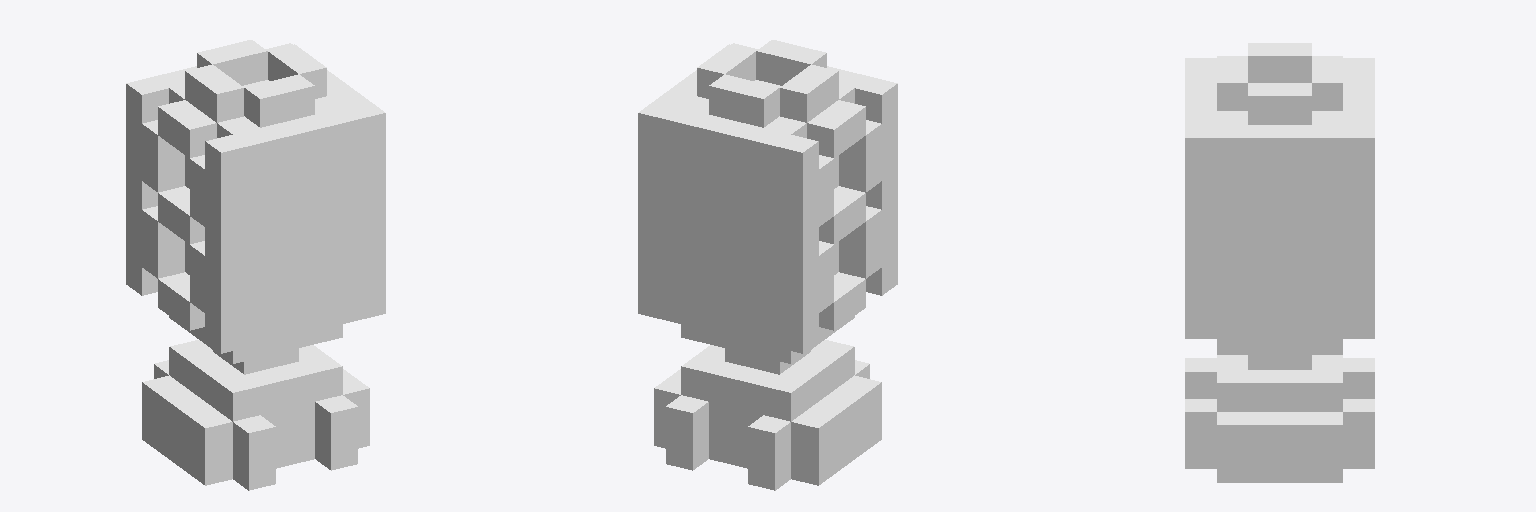
Rendered from RoboZomboArmNoCol.obj.
3 views of the same model, side by side, from view 1: azimuth 30°, elevation 25°; view 2: azimuth 150°, elevation 25°; view 3: azimuth 270°, elevation 25° (orthographic).
Bounding box in the file's own units: 6 × 13 × 6.